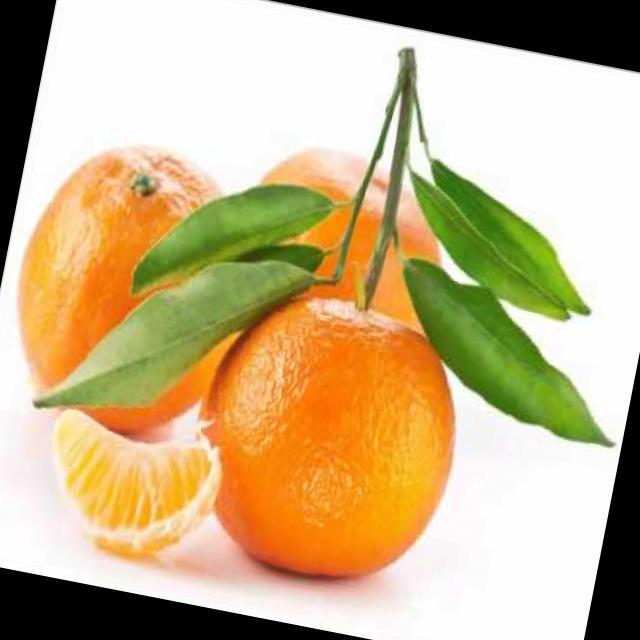orange: (168, 270, 491, 622), (0, 118, 279, 455), (204, 139, 467, 440)
